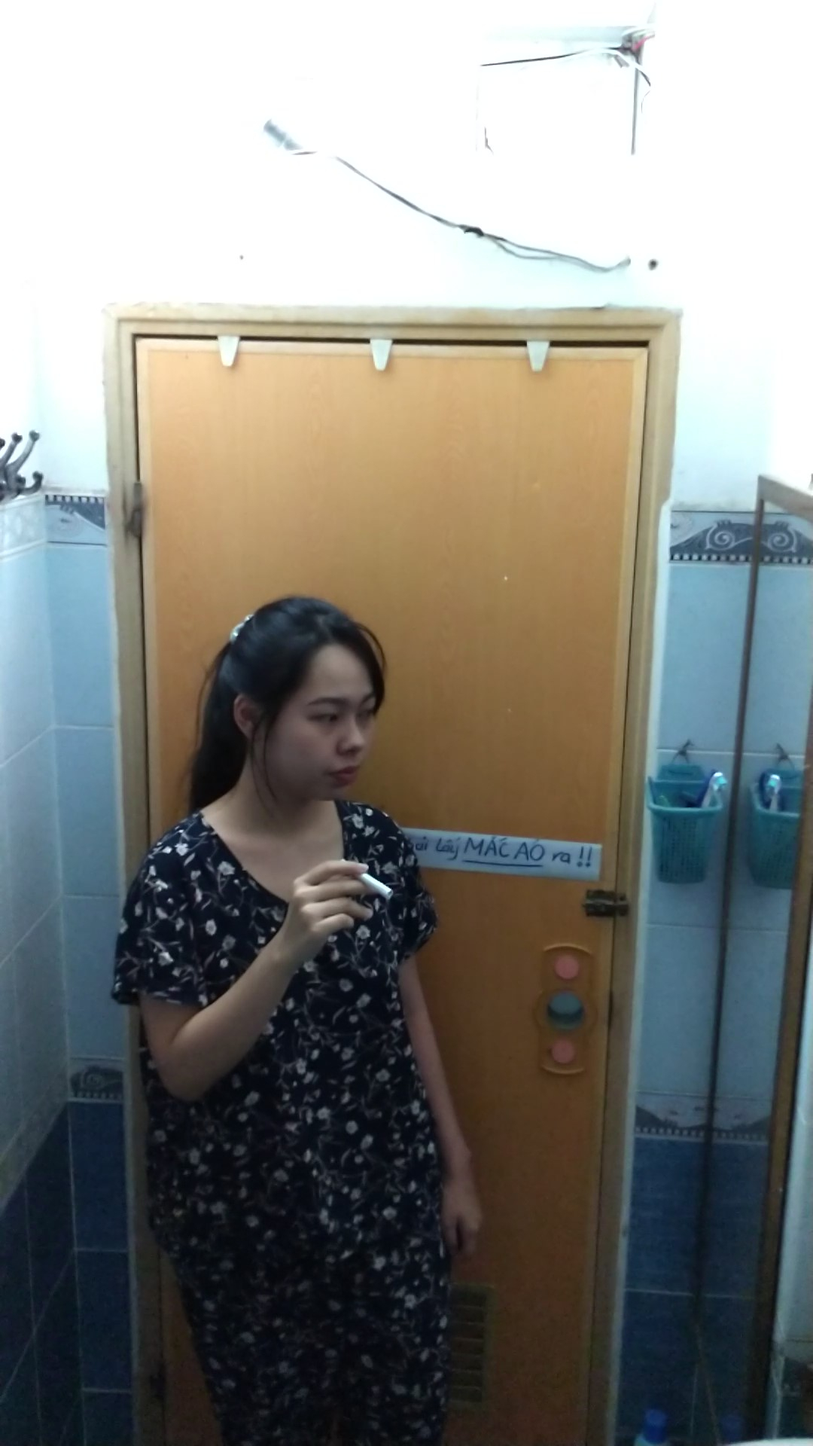cigarette: (358, 871, 398, 908)
person: (114, 572, 486, 1442)
